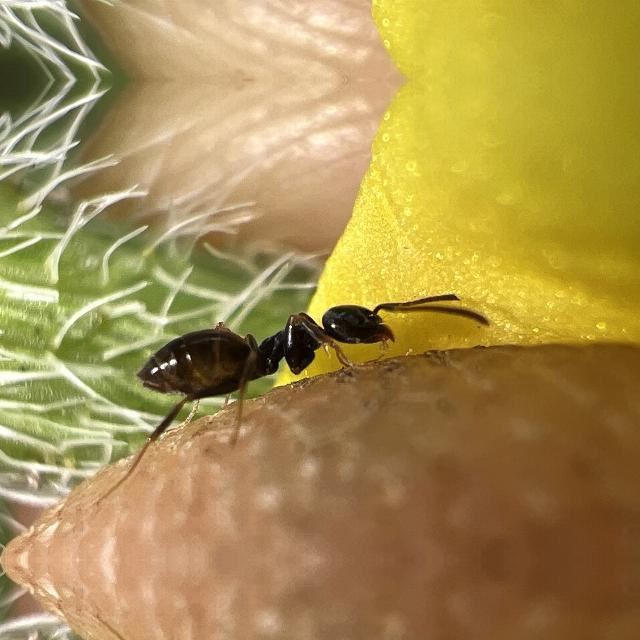Tapinoma: (105, 260, 435, 432)
